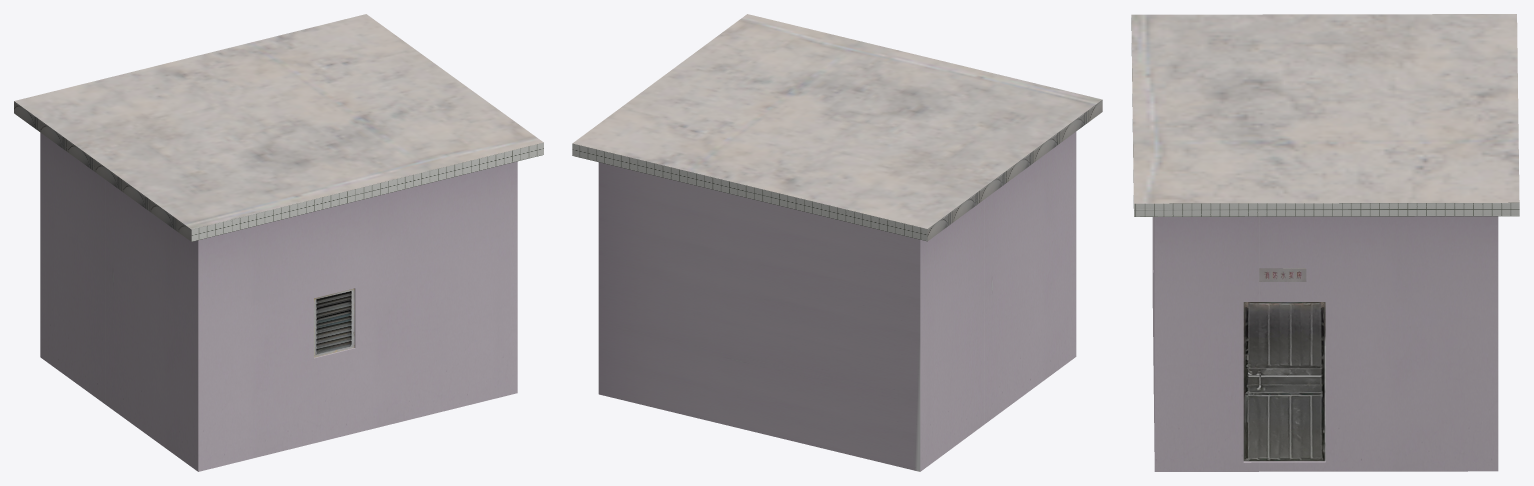
Rendered from CK-xiaofangshuibengfang01-JZ.FBX.
3 views of the same model, side by side, from view 1: azimuth 30°, elevation 25°; view 2: azimuth 150°, elevation 25°; view 3: azimuth 270°, elevation 25° (orthographic). The views are drawn at different scales.
Parts seen in each view (by area): view 1: CK-xiaofangshuibengfang01-JZ; view 2: CK-xiaofangshuibengfang01-JZ; view 3: CK-xiaofangshuibengfang01-JZ.
Boxes of the visible parts, bbox=[...] form: CK-xiaofangshuibengfang01-JZ: bbox=[14, 14, 543, 471]; CK-xiaofangshuibengfang01-JZ: bbox=[572, 14, 1102, 471]; CK-xiaofangshuibengfang01-JZ: bbox=[1131, 14, 1519, 471].
Size of the model in its own units: 6.03 by 4.12 by 5.22.
4 materials, 4 textured.
